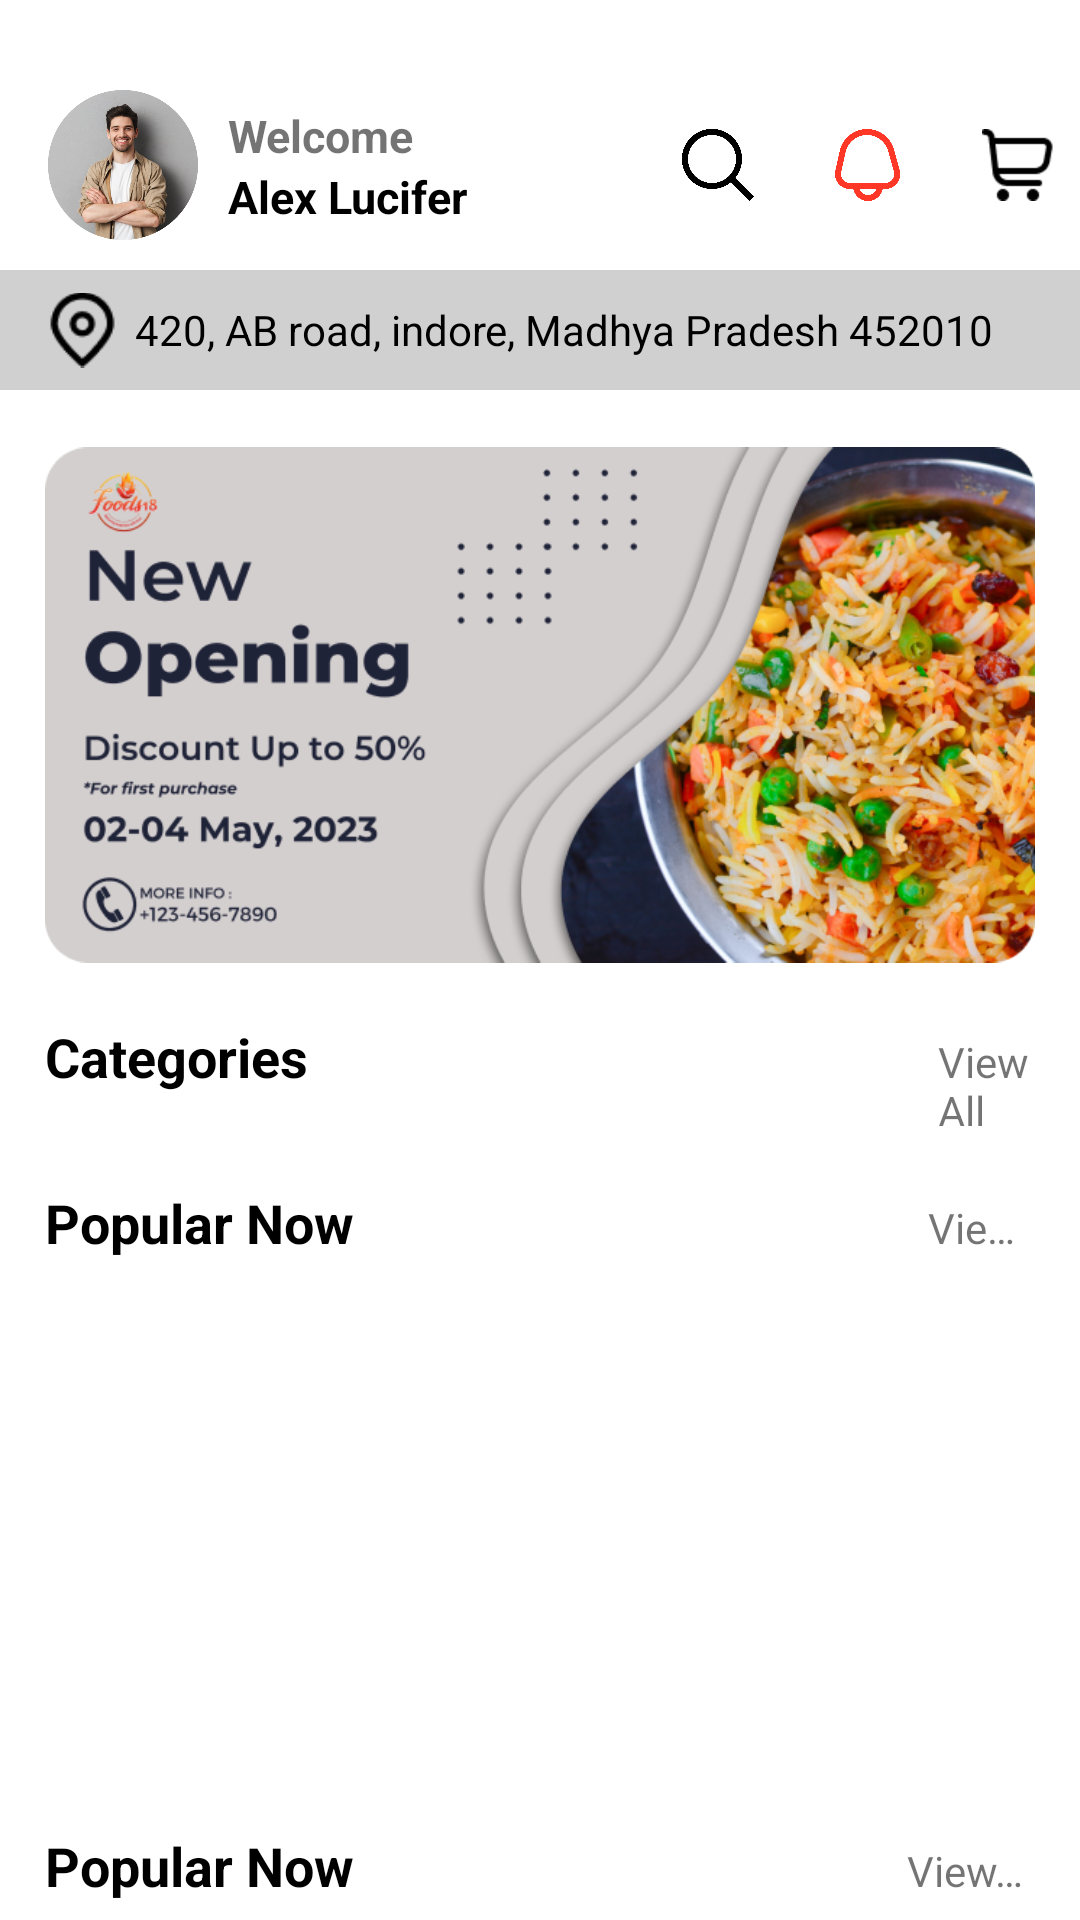

Point at icon controls on the screen. Image size 1080 x 1920, points as point (x, y).
location: point (82, 330)
man: point (123, 165)
notification: point (867, 165)
search: point (718, 165)
